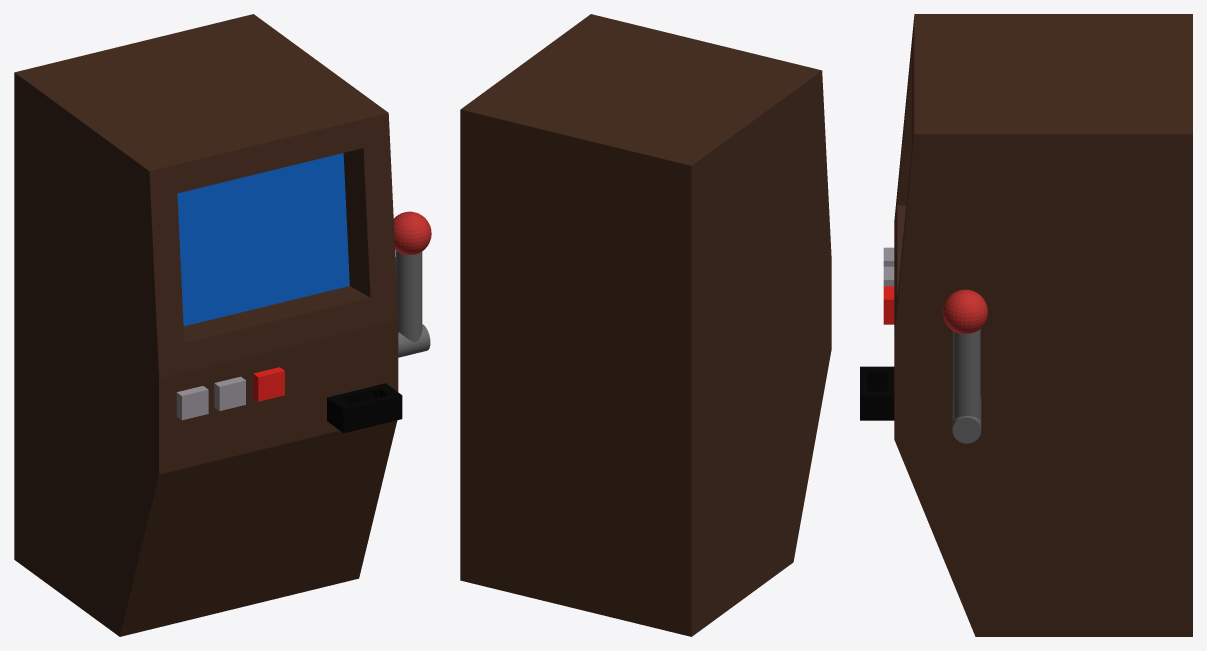
Rendered from Slot.fbx.
3 renders of one model, left to right at view 1: azimuth 30°, elevation 25°; view 2: azimuth 150°, elevation 25°; view 3: azimuth 270°, elevation 25°, orthographic. The views are drawn at different scales.
Parts seen in each view (by area): view 1: Cube, Cube.002; view 2: Cube; view 3: Cube, Cube.002.
Part boxes in pixels (x1,y1,x2,y2): Cube: (14, 14, 402, 636); Cube.002: (393, 211, 431, 357); Cube: (460, 14, 831, 636); Cube: (860, 14, 1192, 636); Cube.002: (943, 289, 987, 443).
Size of the model in its own units: 333 by 510 by 306.
